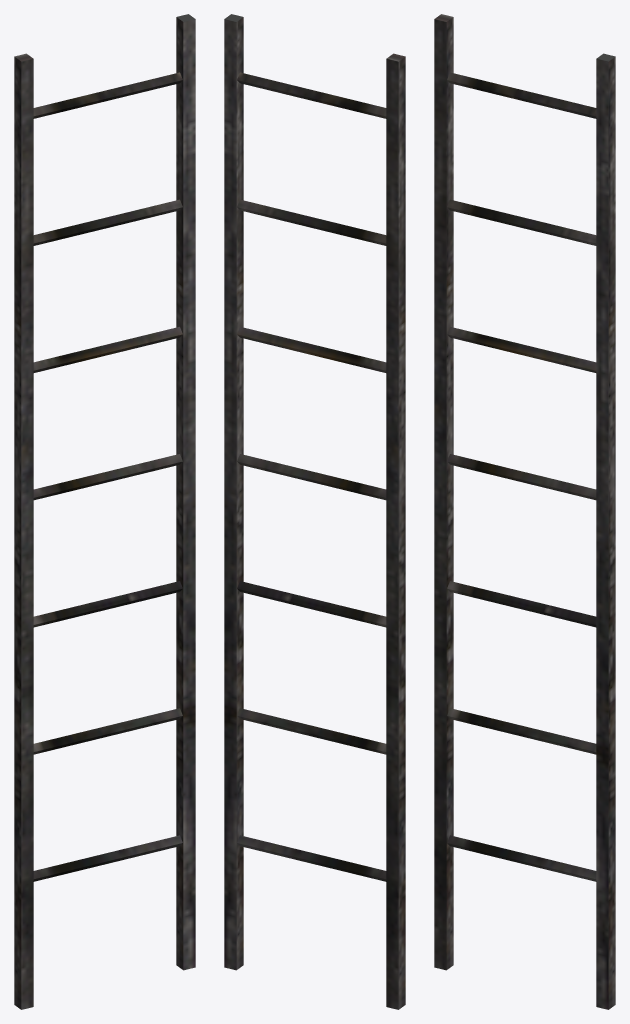
The model's file is Training_Ladder2.fbx.
3 renders of one model, left to right at view 1: azimuth 30°, elevation 25°; view 2: azimuth 150°, elevation 25°; view 3: azimuth 330°, elevation 25°, orthographic.
Visible parts, largest first — view 1: Box232; view 2: Box232; view 3: Box232.
Boxes of the visible parts, x1=… form: Box232: x1=14, y1=14, x2=195, y2=1009; Box232: x1=224, y1=14, x2=405, y2=1009; Box232: x1=434, y1=14, x2=615, y2=1009.
Bounding box in the file's own units: 43.09 × 224 × 3.
